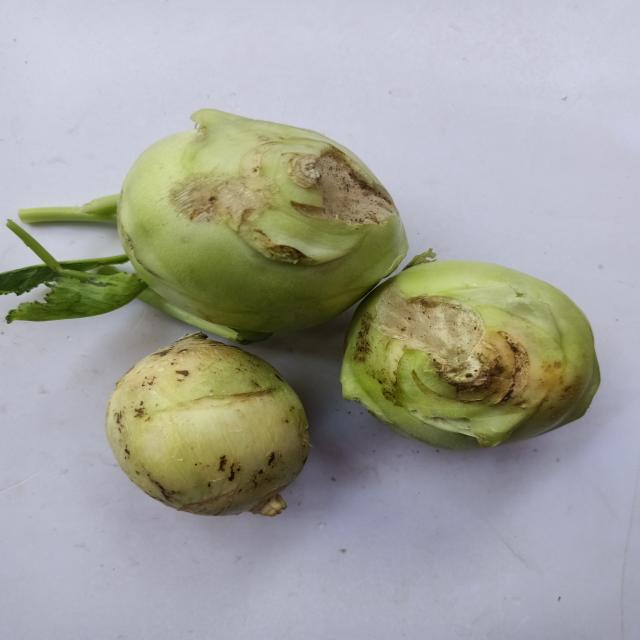Turnip: (1, 101, 418, 346), (329, 247, 609, 467), (89, 331, 353, 547)
